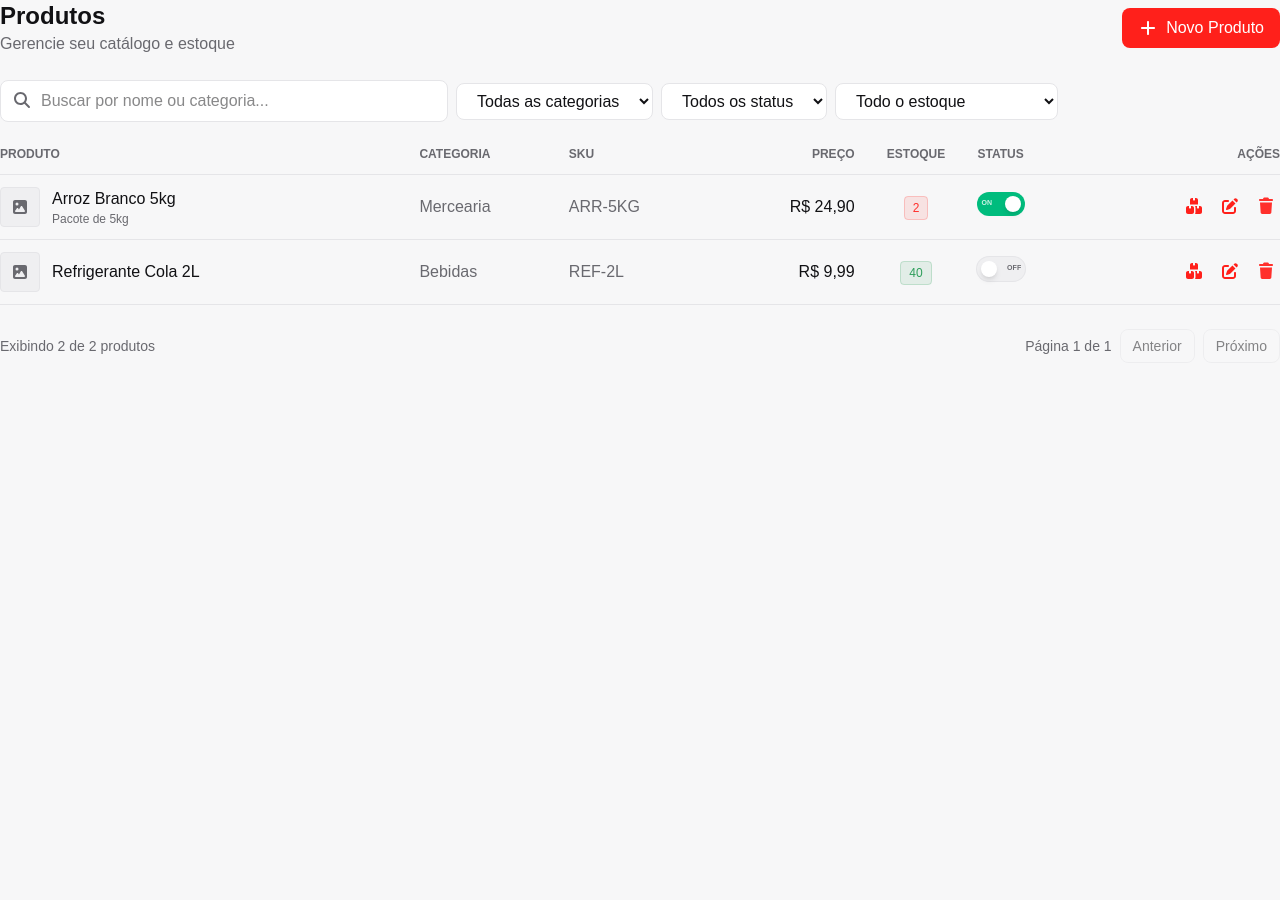
Test: ProductsPage — modal de estoque › valida a quantidade antes de enviar o ajuste
Click the button named "estoque" at (1196, 207), box [1184, 195, 1208, 219]
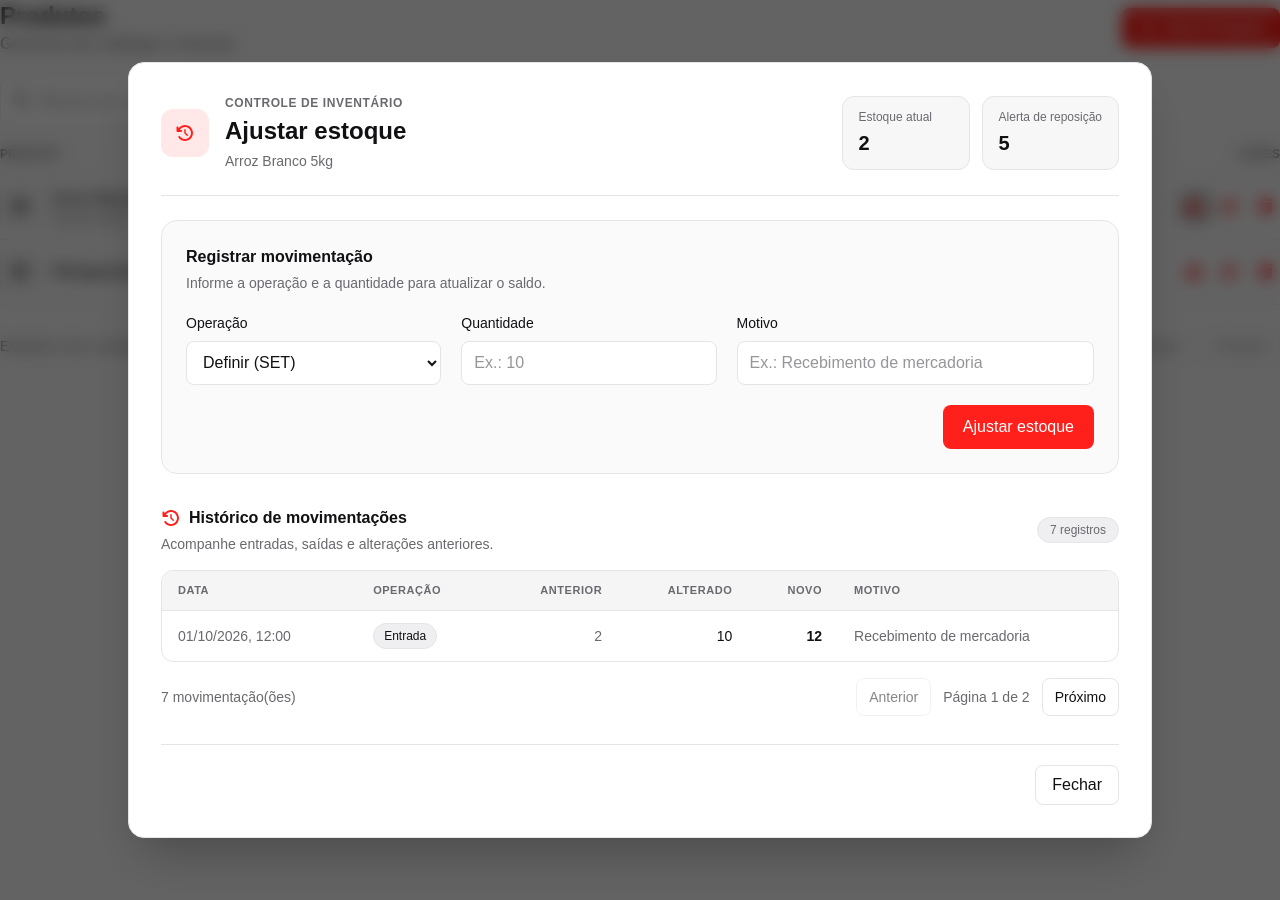
Expected: the text "Recebimento de mercadoria" is shown, [838, 611, 1118, 661]
Type "-3" into the number field labelled "Quantidade" at (589, 363), box [461, 341, 717, 385]
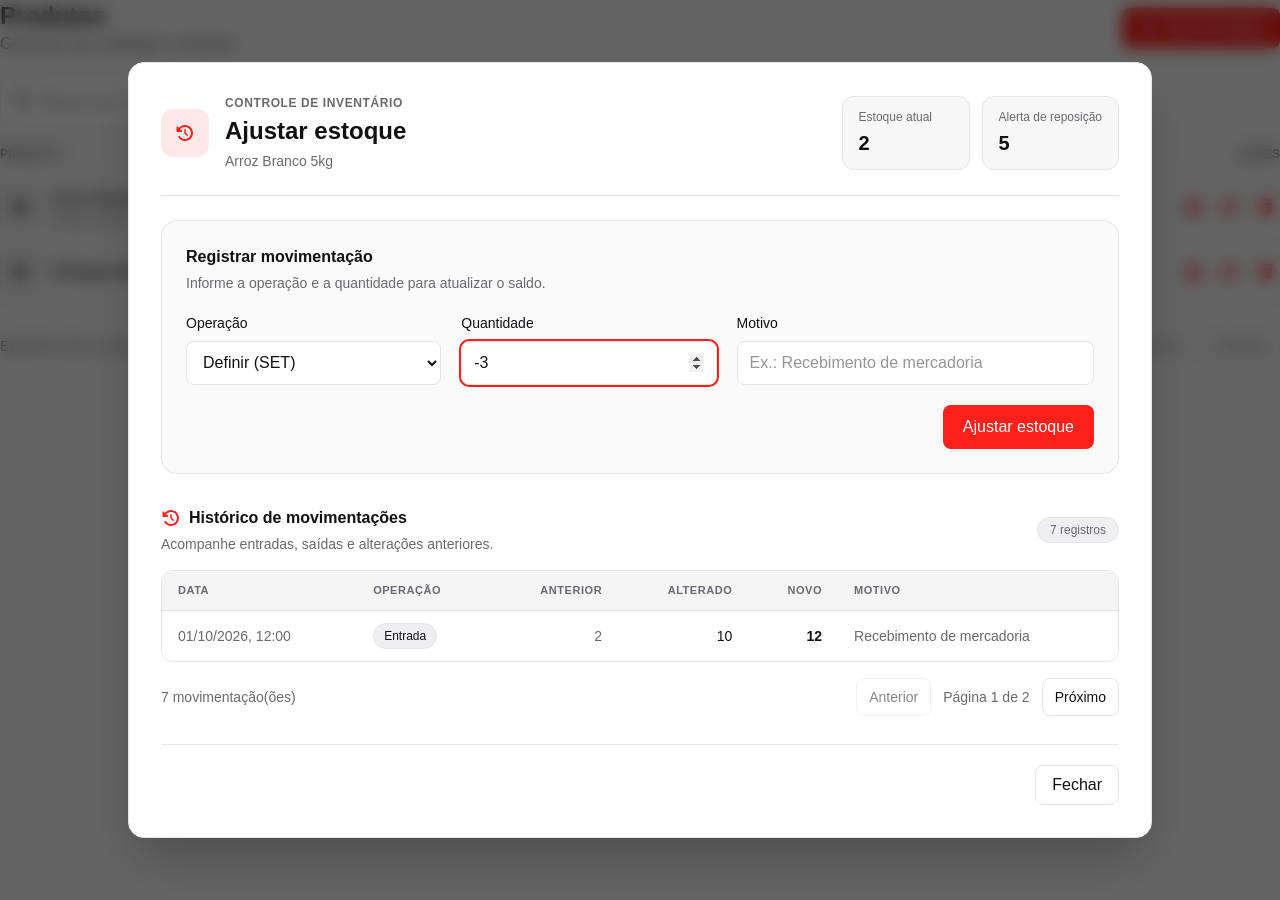
Click the button "Ajustar estoque" at (1018, 427), box [943, 405, 1094, 449]
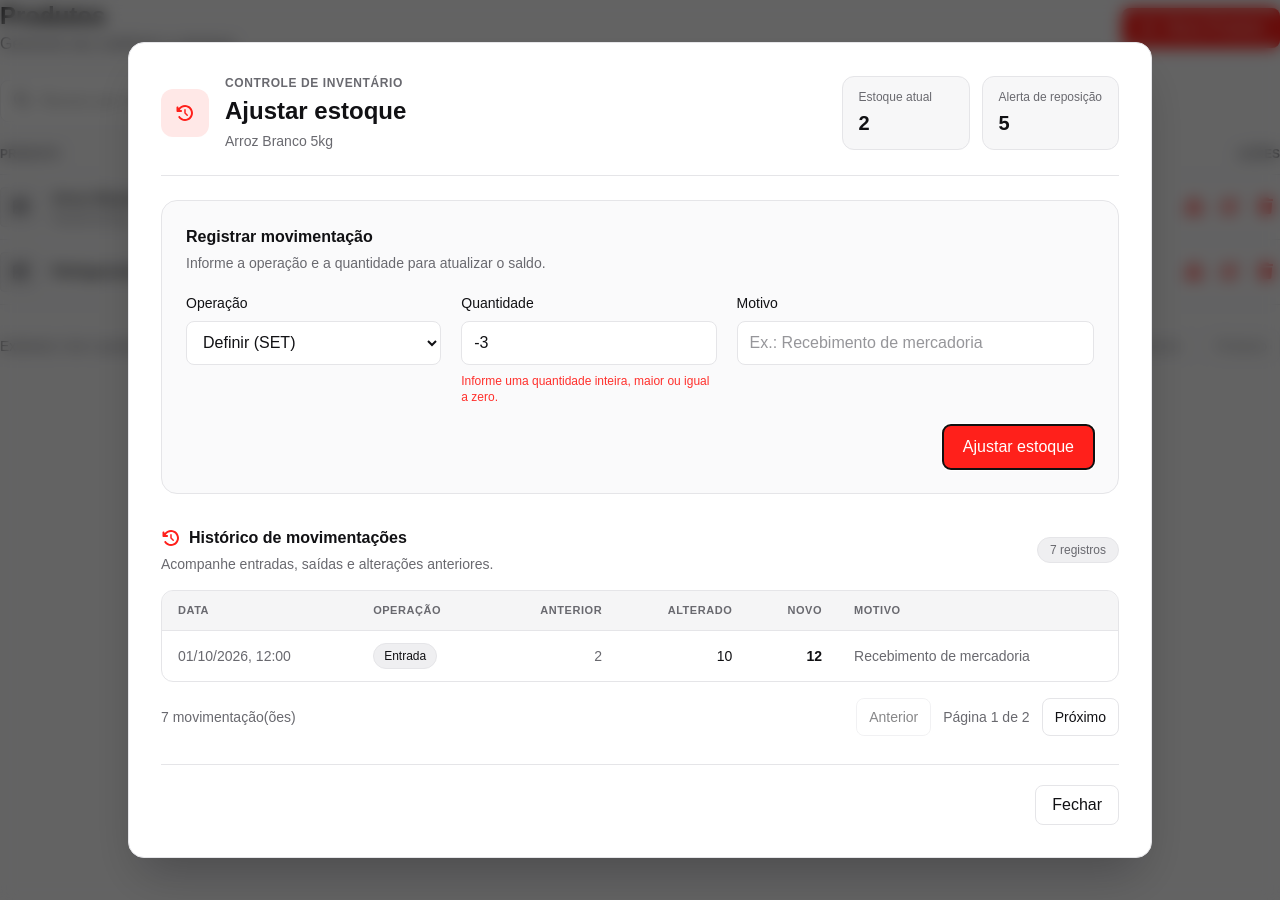
Expected: the text "Informe uma quantidade inteira, maior ou igual a zero." is shown, [461, 373, 717, 405]
